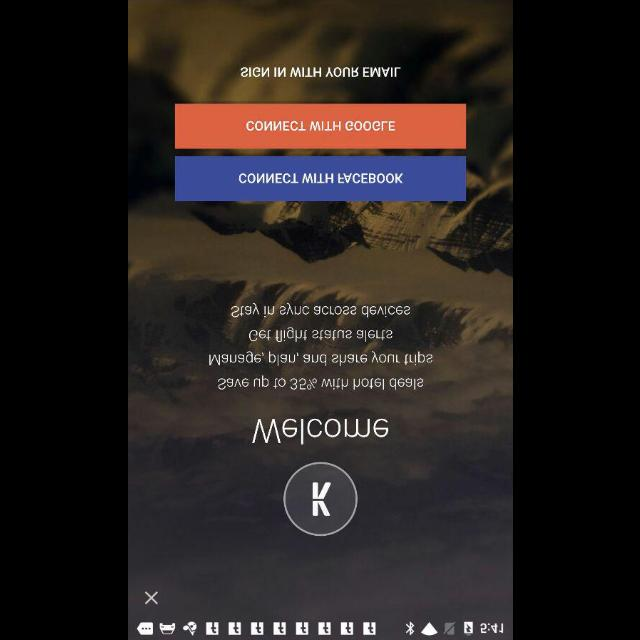backgroundimage: (128, 1, 512, 620)
icon: (144, 590, 158, 604)
image: (283, 461, 357, 535)
text: (208, 302, 432, 390), (252, 417, 388, 445), (240, 66, 400, 78)
textbutton: (174, 104, 466, 148), (175, 157, 465, 201)
uppertaskbar: (128, 620, 512, 638)
